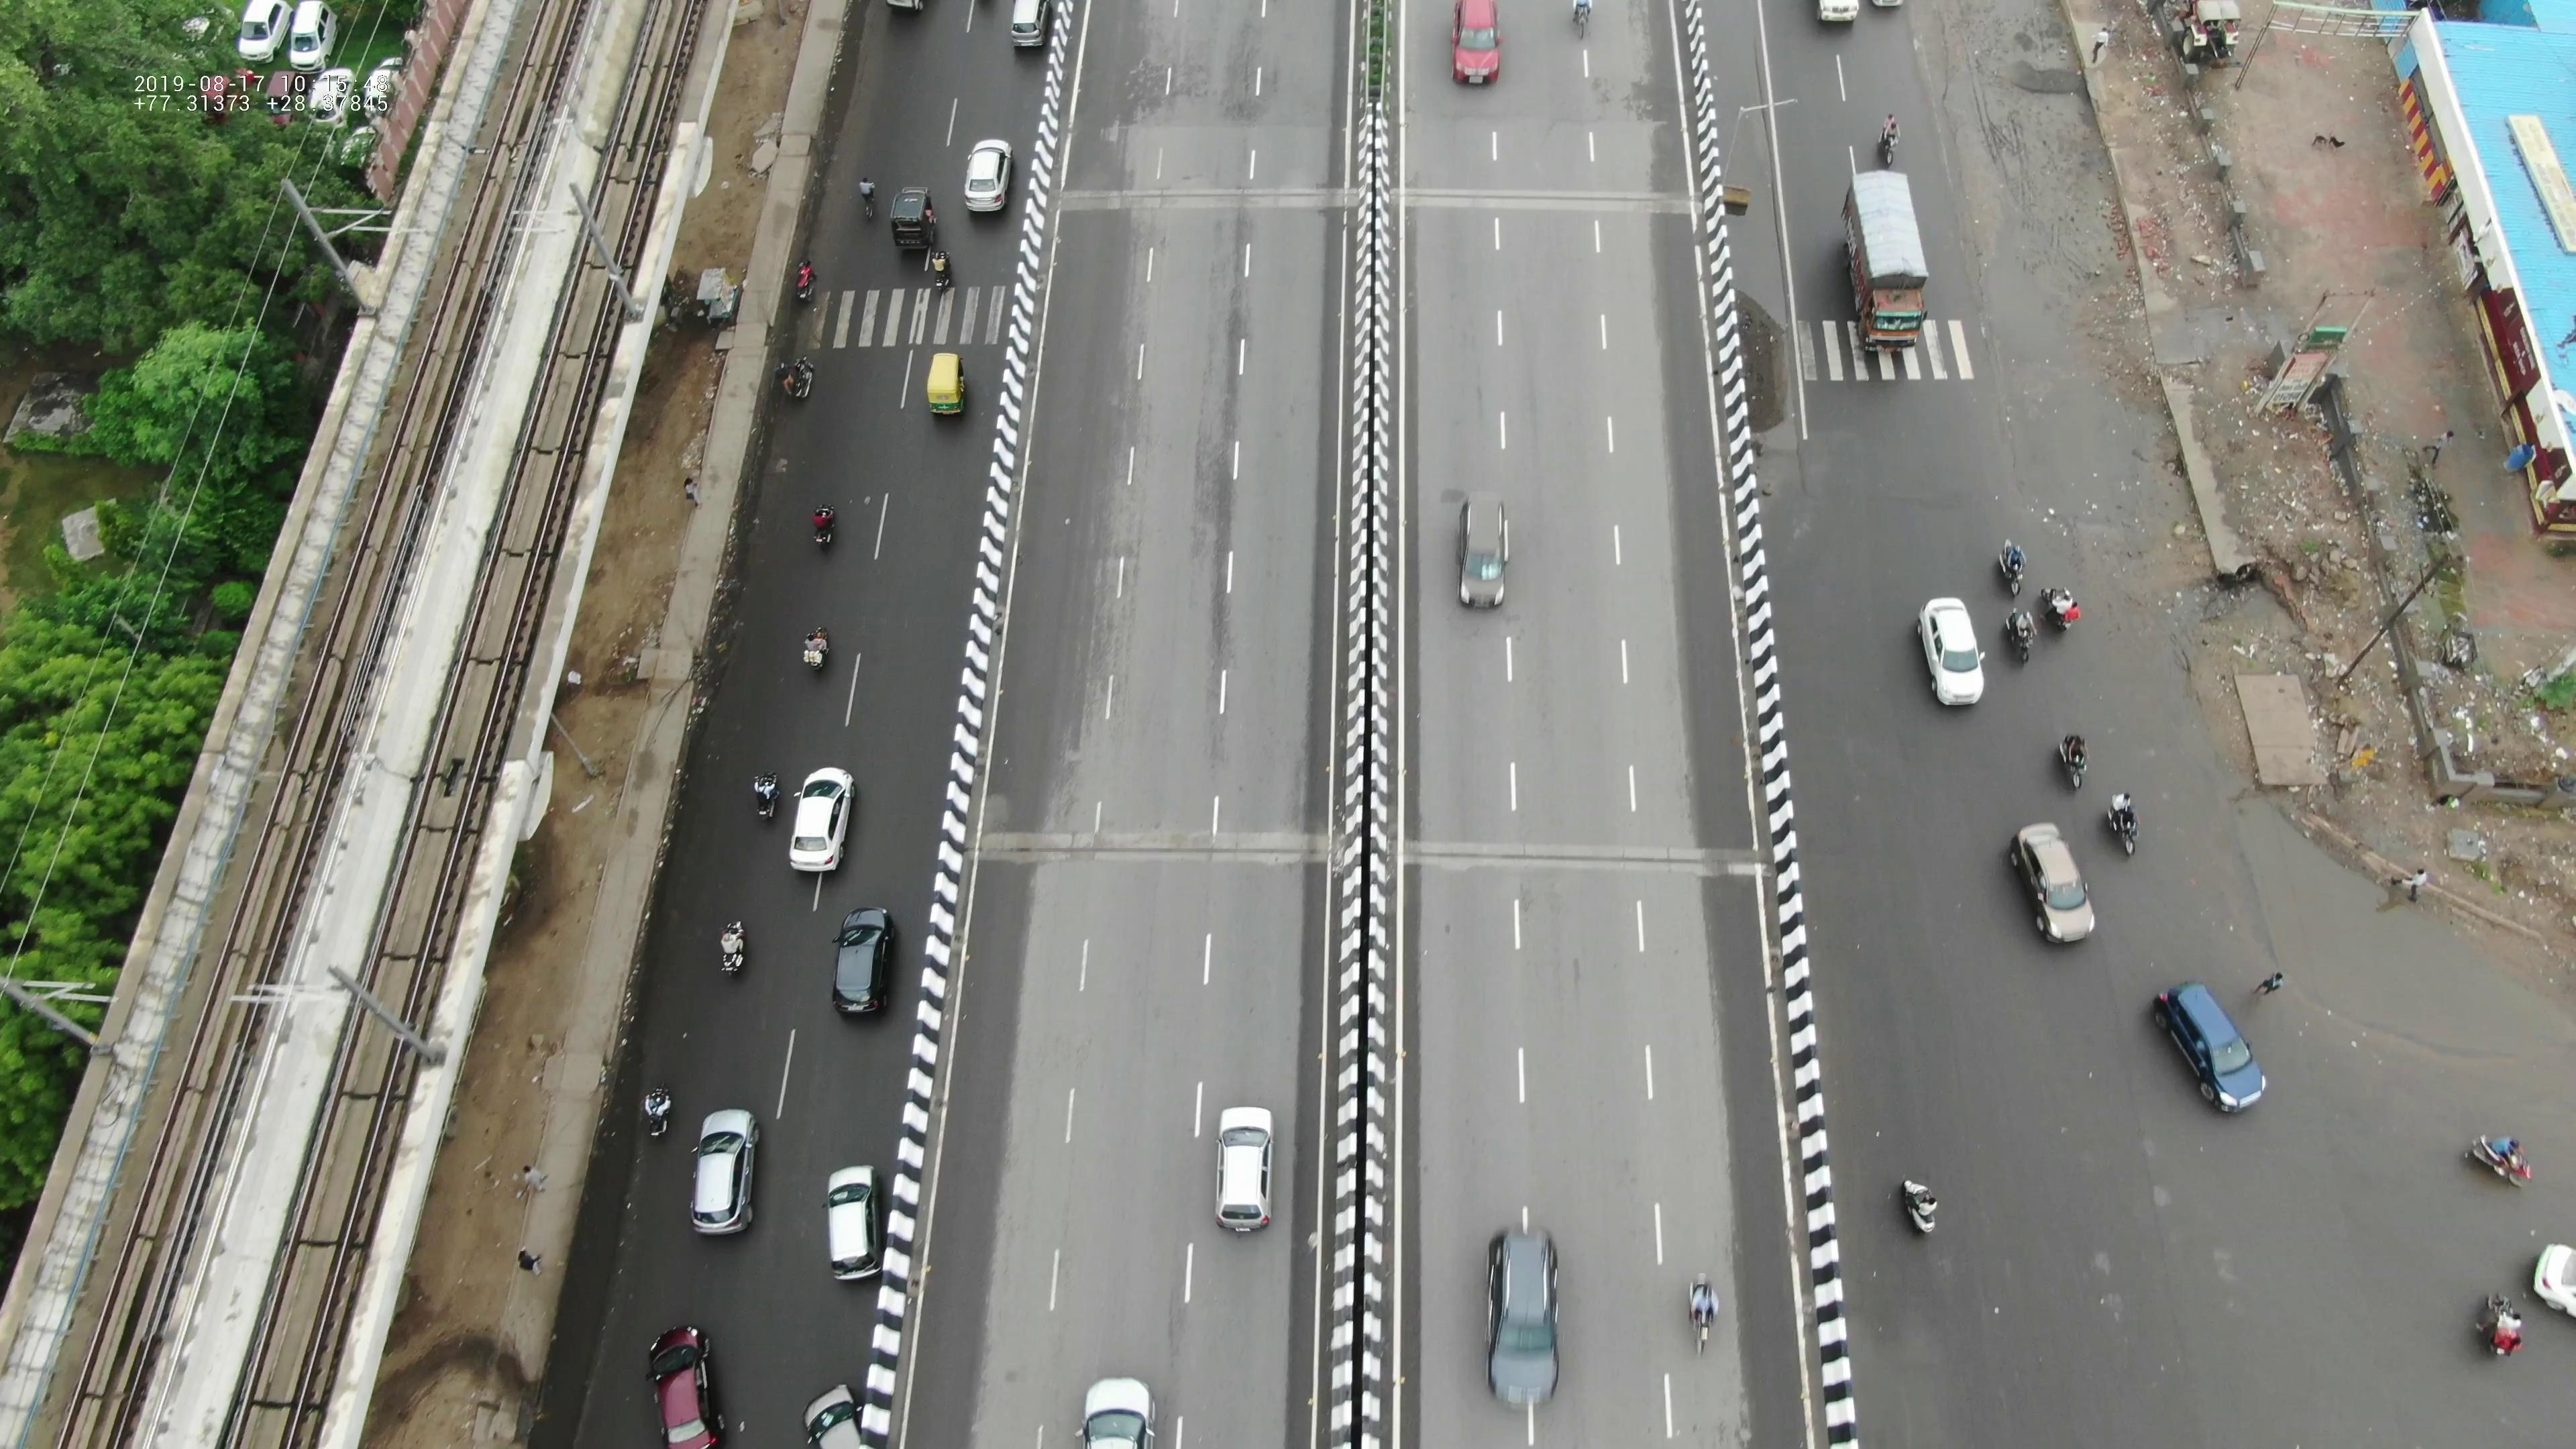Ravelling: (1171, 301, 1261, 648), (1198, 37, 1286, 129)
